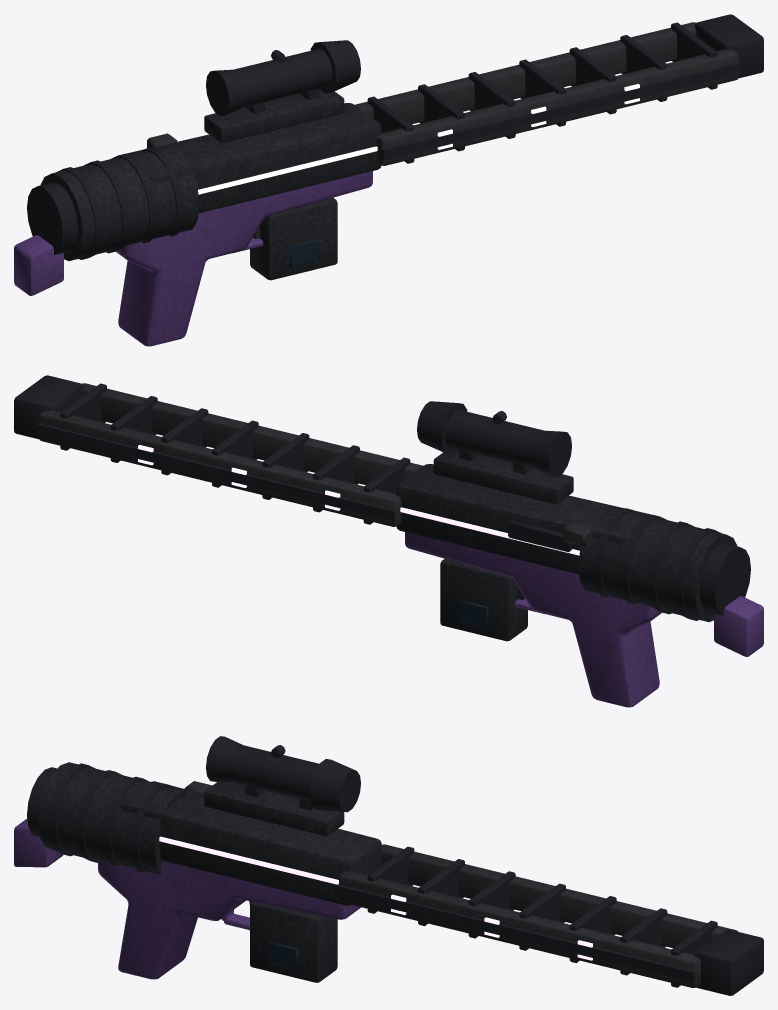
Rendered from railgun_r3.fbx.
3 views of the same model, one above another, from view 1: azimuth 30°, elevation 25°; view 2: azimuth 150°, elevation 25°; view 3: azimuth 330°, elevation 25° (orthographic).
Parts seen in each view (by area): view 1: Body, Magazine, Glow; view 2: Body, Magazine, Bolt, Glow; view 3: Body, Magazine, Glow.
Boxes of the visible parts, x1,y1,x2,y2 form: Body: (14,14,763,346); Magazine: (250,198,337,280); Glow: (198,84,639,194); Body: (14,375,763,707); Magazine: (440,559,527,641); Bolt: (508,520,593,552); Glow: (138,445,579,555); Body: (14,736,763,995); Magazine: (250,901,337,982); Glow: (159,836,592,960).
Size of the model in its own units: 9.35 by 3.08 by 1.08.
2 materials, 1 textured.
